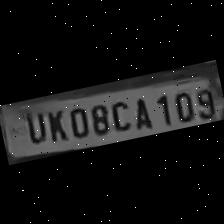0: (62, 102, 92, 141), (168, 86, 196, 125)
1: (148, 90, 175, 128)
8: (84, 99, 112, 138)
9: (188, 82, 218, 122)
A: (127, 92, 154, 132)
C: (104, 95, 133, 134)
K: (40, 106, 69, 144)
U: (18, 108, 47, 146)
